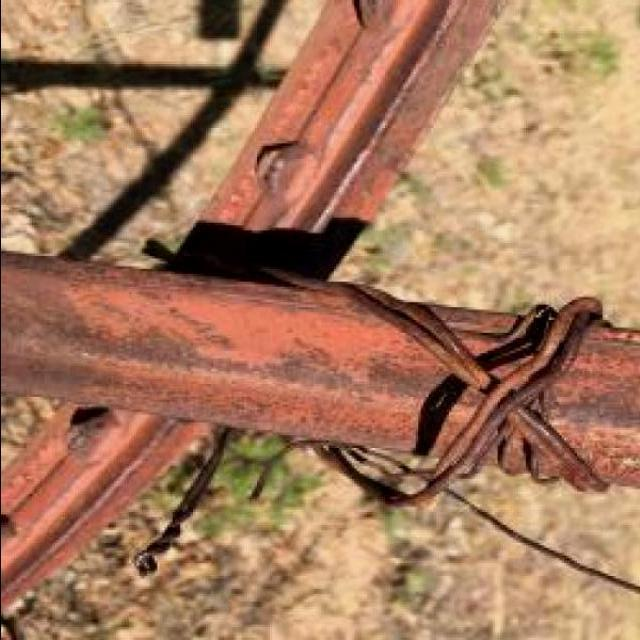Crack: (440, 483, 638, 595)
